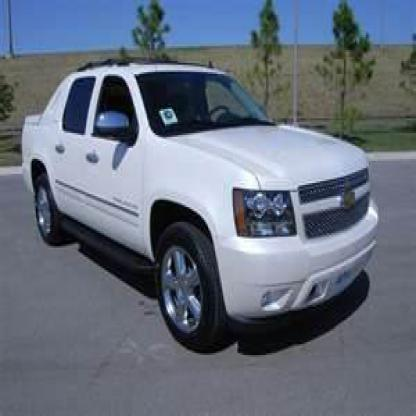Vehicle: (20, 57, 378, 366)
